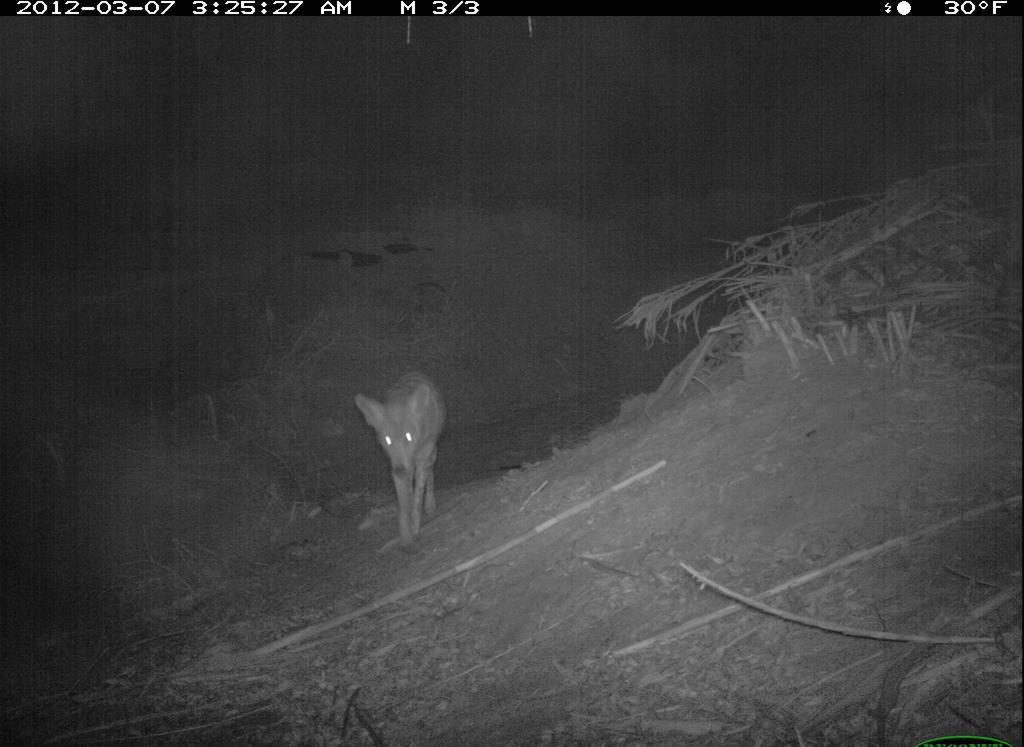coyote: (344, 376, 481, 557)
